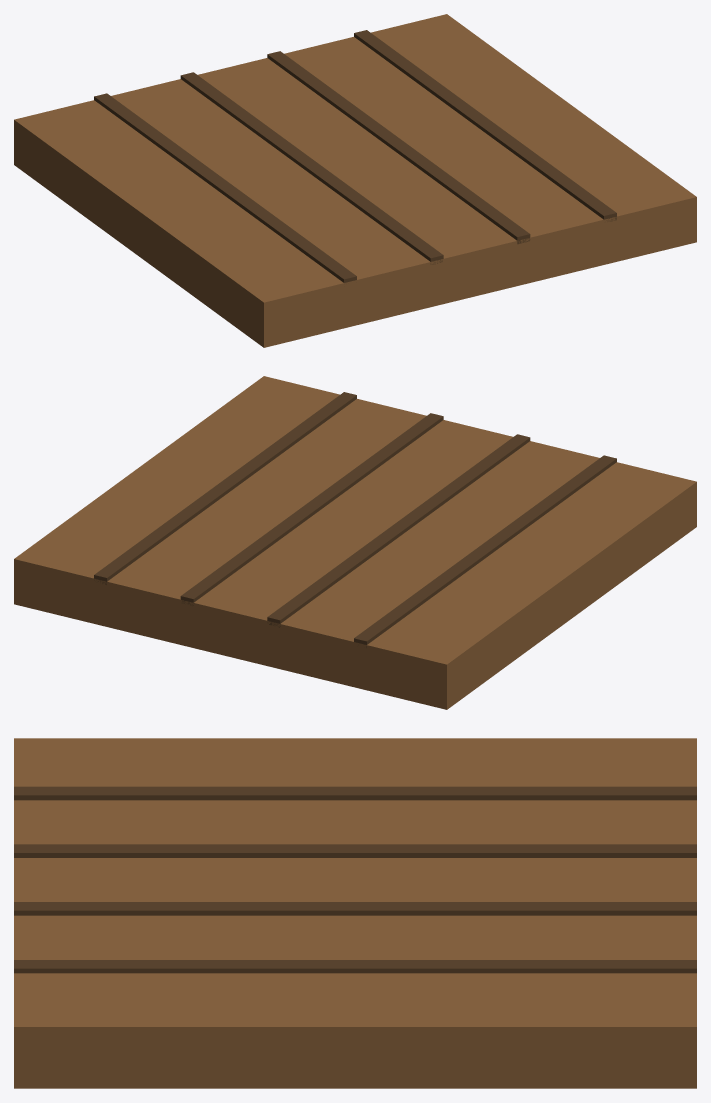
Rendered from deck_plank.obj.
3 renders of one model, top to bottom at view 1: azimuth 30°, elevation 25°; view 2: azimuth 150°, elevation 25°; view 3: azimuth 270°, elevation 25°, orthographic. The views are drawn at different scales.
Parts seen in each view (by area): view 1: DeckPlank; view 2: DeckPlank; view 3: DeckPlank.
Boxes of the visible parts, bbox=[...] form: DeckPlank: bbox=[14, 14, 696, 347]; DeckPlank: bbox=[14, 376, 696, 709]; DeckPlank: bbox=[14, 738, 696, 1088].
Bounding box in the file's own units: 1 × 0.108 × 1.
